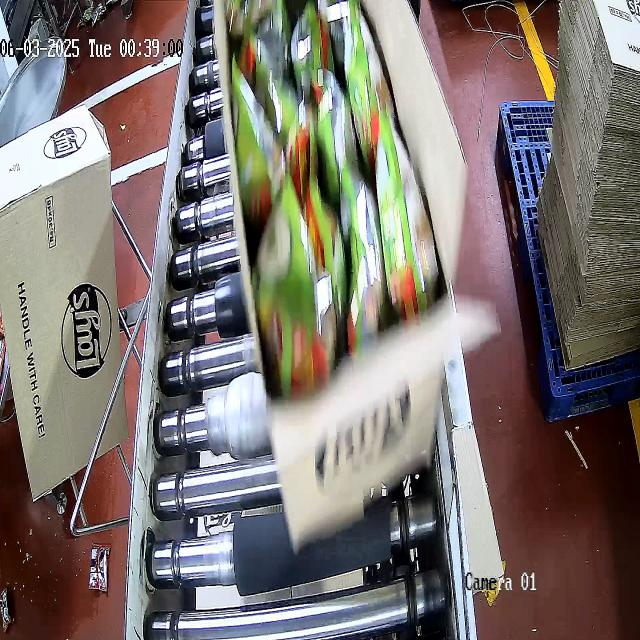YOGURT_HERB: (224, 0, 437, 389)
